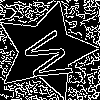W: (20, 26, 82, 86)
